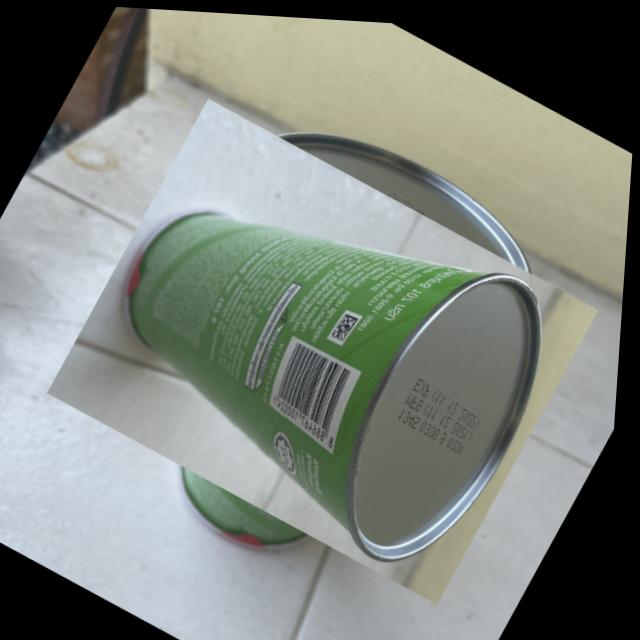a pringles: (54, 76, 599, 618)
